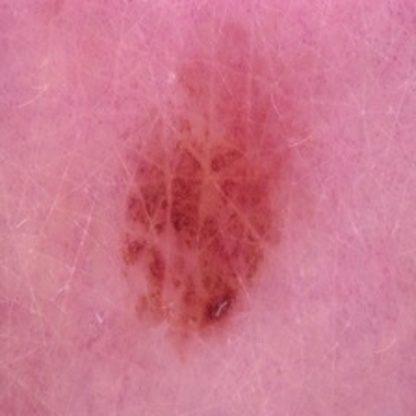benign: (126, 150, 259, 328)
